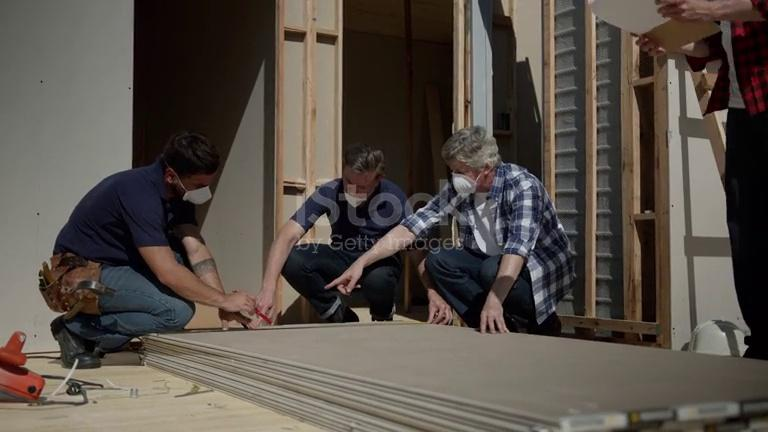helmet: (688, 319, 747, 357)
mask: (182, 184, 212, 206), (451, 174, 477, 196), (346, 192, 368, 208)
person: (326, 126, 574, 335), (54, 132, 266, 367), (636, 1, 768, 355), (259, 144, 408, 324)
